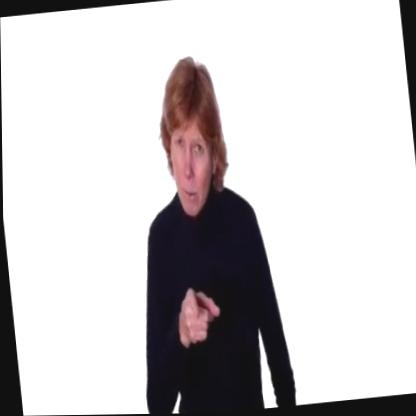HowAreYou: (166, 256, 245, 378)
